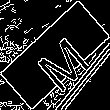M_NW: (22, 21, 88, 89)
